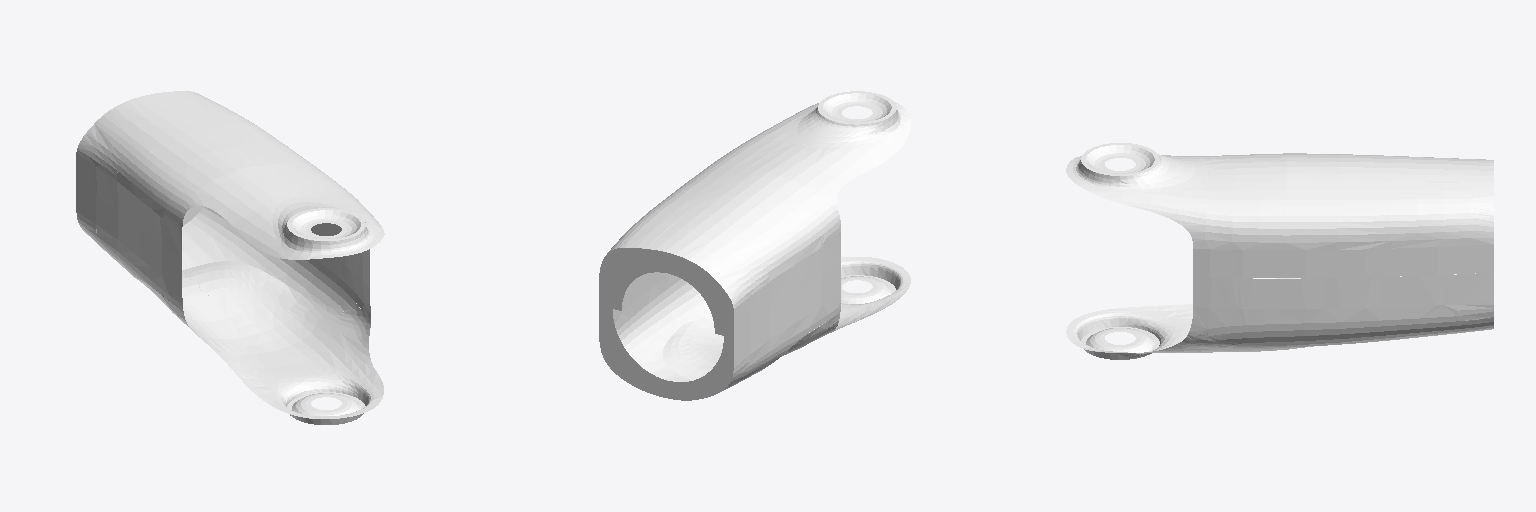
File: UnterarmL_B.obj
The picture shows the model from 3 angles: view 1: azimuth 30°, elevation 25°; view 2: azimuth 150°, elevation 25°; view 3: azimuth 270°, elevation 25°; orthographic projection.
Parts seen in each view (by area): view 1: Stamm|Minimal-UnterarmL_(Standard)|Unterarm_links-1|Schale_Unter; view 2: Stamm|Minimal-UnterarmL_(Standard)|Unterarm_links-1|Schale_Unter; view 3: Stamm|Minimal-UnterarmL_(Standard)|Unterarm_links-1|Schale_Unter.
Part boxes in pixels (x1,y1,x2,y2): Stamm|Minimal-UnterarmL_(Standard)|Unterarm_links-1|Schale_Unter: (76,91,384,424); Stamm|Minimal-UnterarmL_(Standard)|Unterarm_links-1|Schale_Unter: (599,91,910,400); Stamm|Minimal-UnterarmL_(Standard)|Unterarm_links-1|Schale_Unter: (1066,143,1493,359).
Bounding box in the file's own units: 0.0823 × 0.0977 × 0.2059.